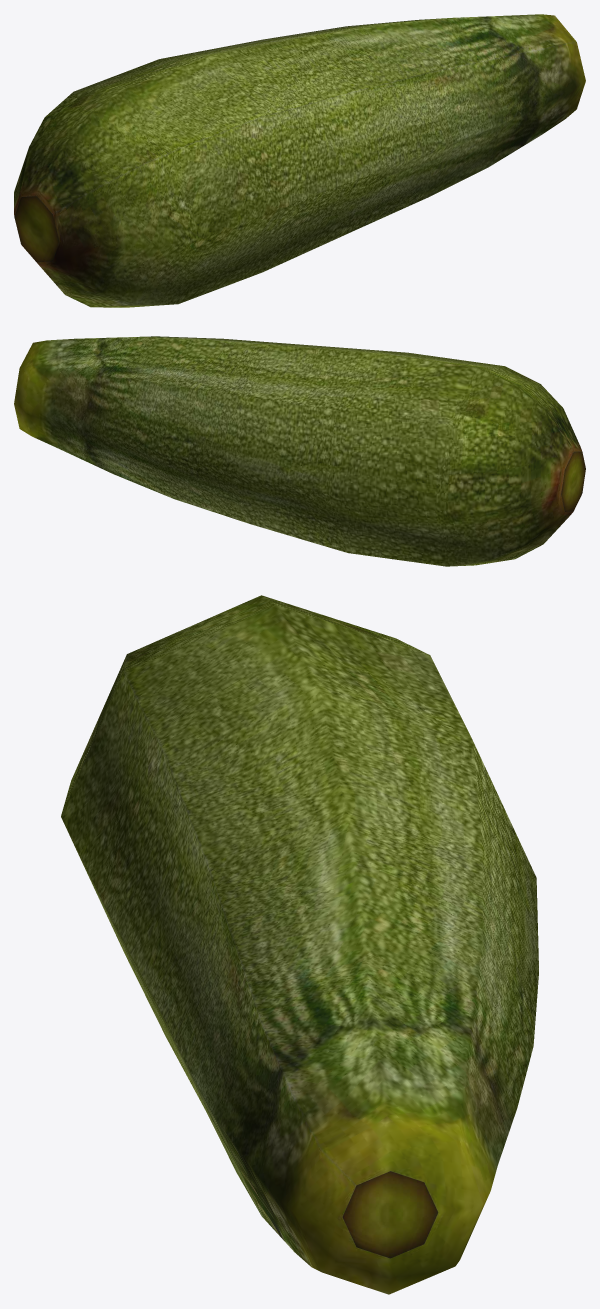
Rendered from calabacita.glb.
The picture shows the model from 3 angles, top to bottom: view 1: azimuth 30°, elevation 25°; view 2: azimuth 150°, elevation 25°; view 3: azimuth 270°, elevation 25°; orthographic projection. The views are drawn at different scales.
Visible parts, largest first — view 1: calabacita; view 2: calabacita; view 3: calabacita.
Part boxes in pixels (x1,y1,x2,y2): calabacita: [14, 14, 585, 307]; calabacita: [14, 336, 585, 566]; calabacita: [61, 595, 538, 1294].
Bounding box in the file's own units: 0.2954 × 0.1084 × 0.1185.
1 material, 1 textured.
